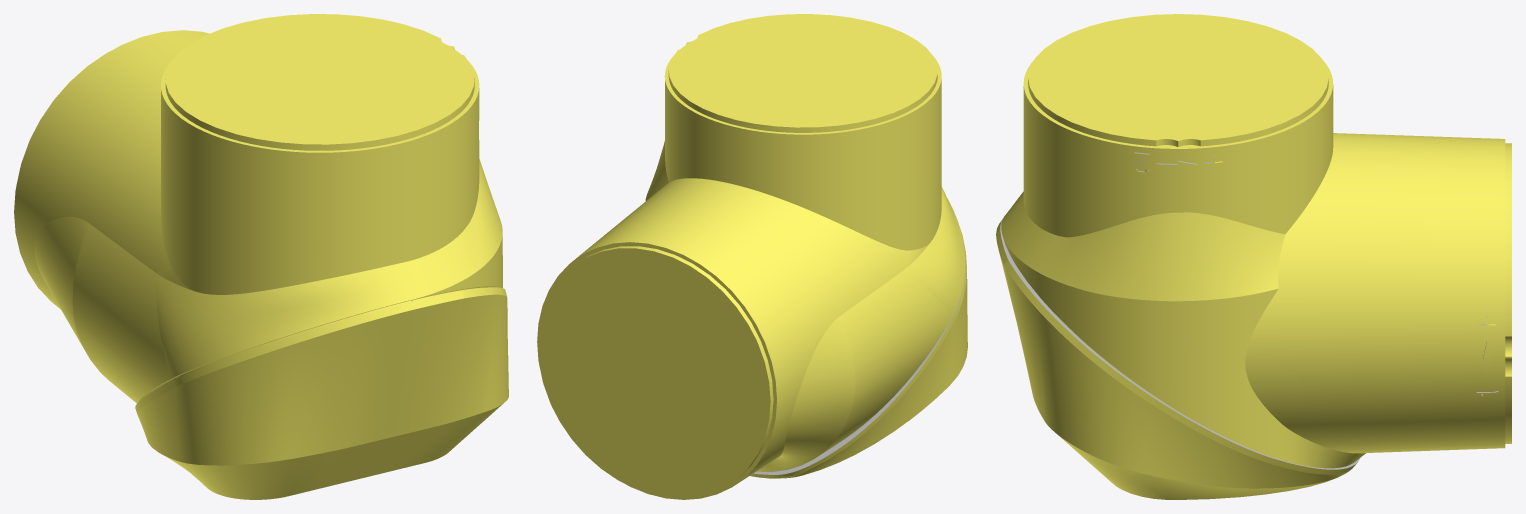
3 views of the same model, side by side, from view 1: azimuth 30°, elevation 25°; view 2: azimuth 150°, elevation 25°; view 3: azimuth 270°, elevation 25° (orthographic). The views are drawn at different scales.
Parts seen in each view (by area): view 1: J1-ORI.SLDPRT; view 2: J1-ORI.SLDPRT; view 3: J1-ORI.SLDPRT.
Part boxes in pixels (x1=…): J1-ORI.SLDPRT: x1=14, y1=14, x2=508, y2=499; J1-ORI.SLDPRT: x1=537, y1=14, x2=967, y2=499; J1-ORI.SLDPRT: x1=996, y1=14, x2=1511, y2=499.
Size of the model in its own units: 0.1613 by 0.1904 by 0.2332.
